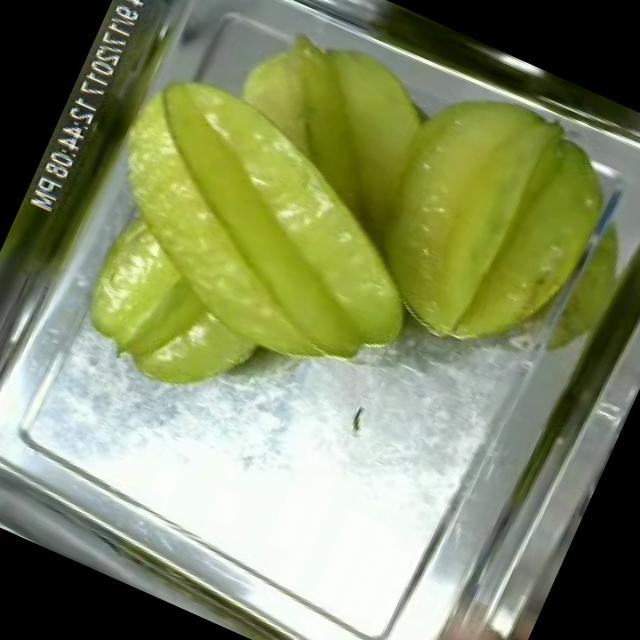fruit: (54, 47, 479, 425), (326, 57, 640, 395)
